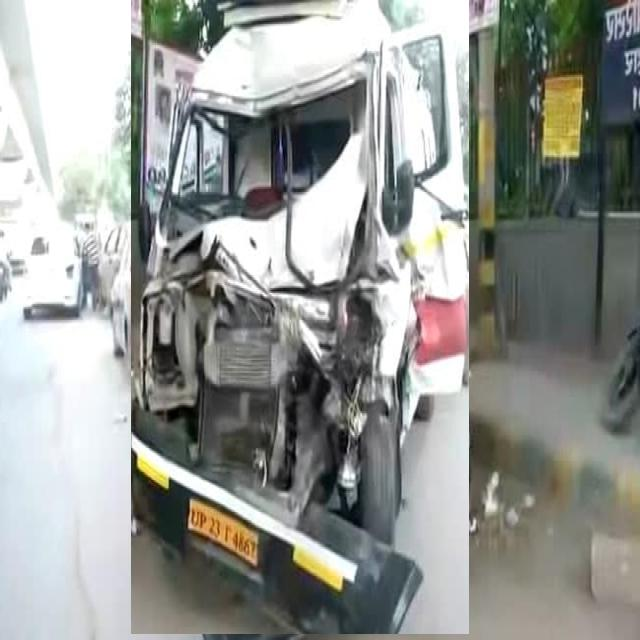accident: (131, 0, 469, 634)
